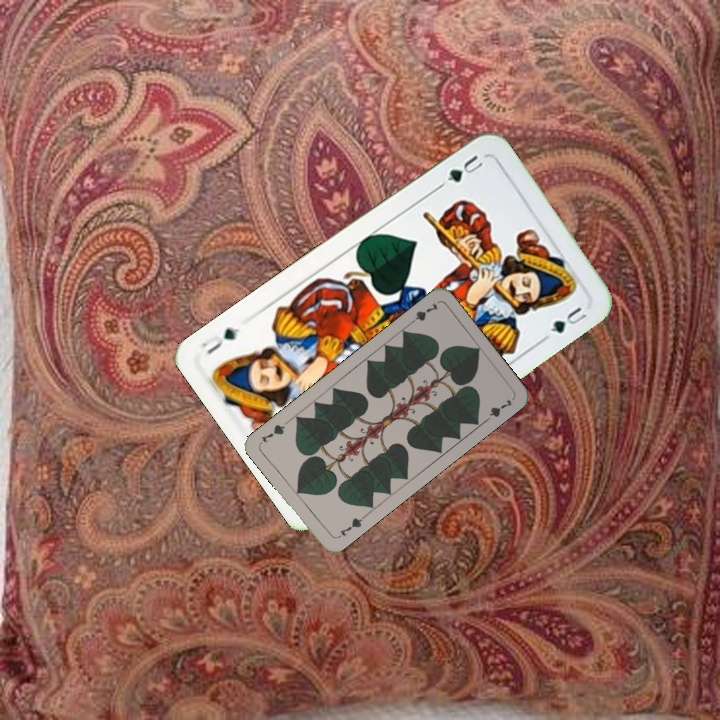G7: (404, 299, 441, 328), (332, 512, 368, 541)
GU: (442, 150, 486, 185)
